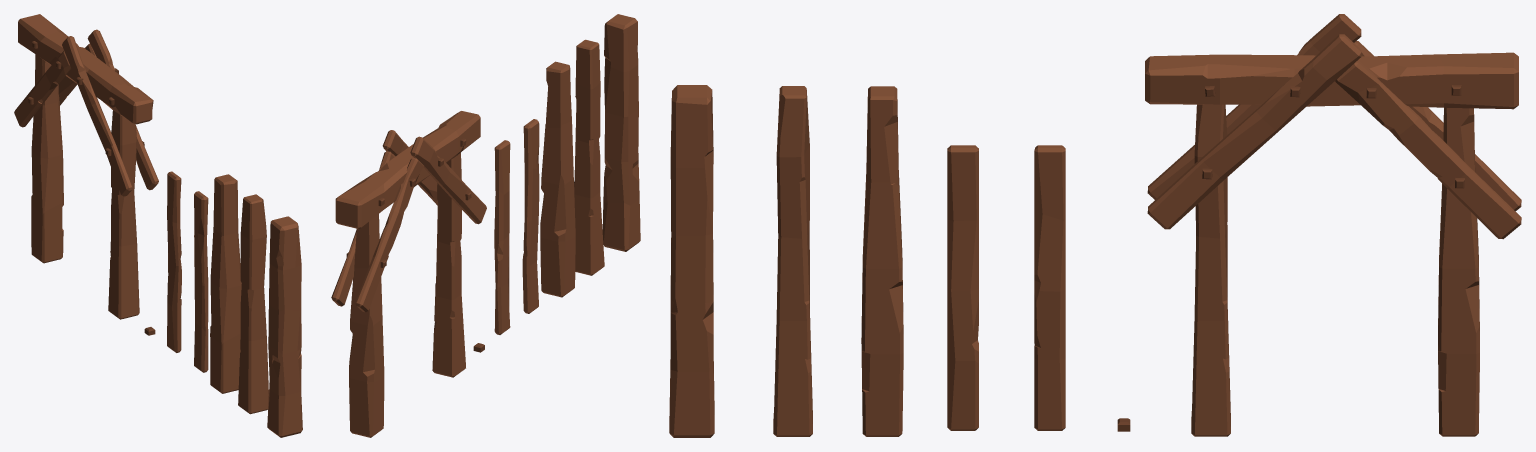
The model's file is Mine_wood.fbx.
3 renders of one model, left to right at view 1: azimuth 30°, elevation 25°; view 2: azimuth 150°, elevation 25°; view 3: azimuth 270°, elevation 25°, orthographic. The views are drawn at different scales.
Visible parts, largest first — view 1: Support_structure, Wooden_pillar.002, Wooden_pillar.001, Wooden_pillar, Wooden_pillar.004, Wooden_pillar.003; view 2: Support_structure, Wooden_pillar.002, Wooden_pillar.001, Wooden_pillar, Wooden_pillar.003, Wooden_pillar.004; view 3: Support_structure, Wooden_pillar.002, Wooden_pillar.001, Wooden_pillar, Wooden_pillar.004, Wooden_pillar.003.
Boxes of the visible parts, x1,y1,x2,y2 form: Support_structure: (14, 14, 158, 319); Wooden_pillar.002: (267, 216, 302, 437); Wooden_pillar.001: (210, 174, 241, 393); Wooden_pillar: (238, 194, 268, 414); Wooden_pillar.004: (167, 171, 181, 352); Wooden_pillar.003: (194, 191, 208, 372); Support_structure: (331, 111, 486, 437); Wooden_pillar.002: (602, 14, 640, 251); Wooden_pillar.001: (540, 61, 575, 297); Wooden_pillar: (574, 39, 604, 275); Wooden_pillar.003: (522, 119, 539, 313); Wooden_pillar.004: (494, 140, 510, 334); Support_structure: (1145, 14, 1521, 436); Wooden_pillar.002: (669, 85, 714, 437); Wooden_pillar.001: (861, 86, 903, 436); Wooden_pillar: (773, 86, 812, 436); Wooden_pillar.004: (1034, 145, 1065, 430); Wooden_pillar.003: (947, 145, 978, 430).
Bounding box in the file's own units: 64.62 × 384 × 734.
